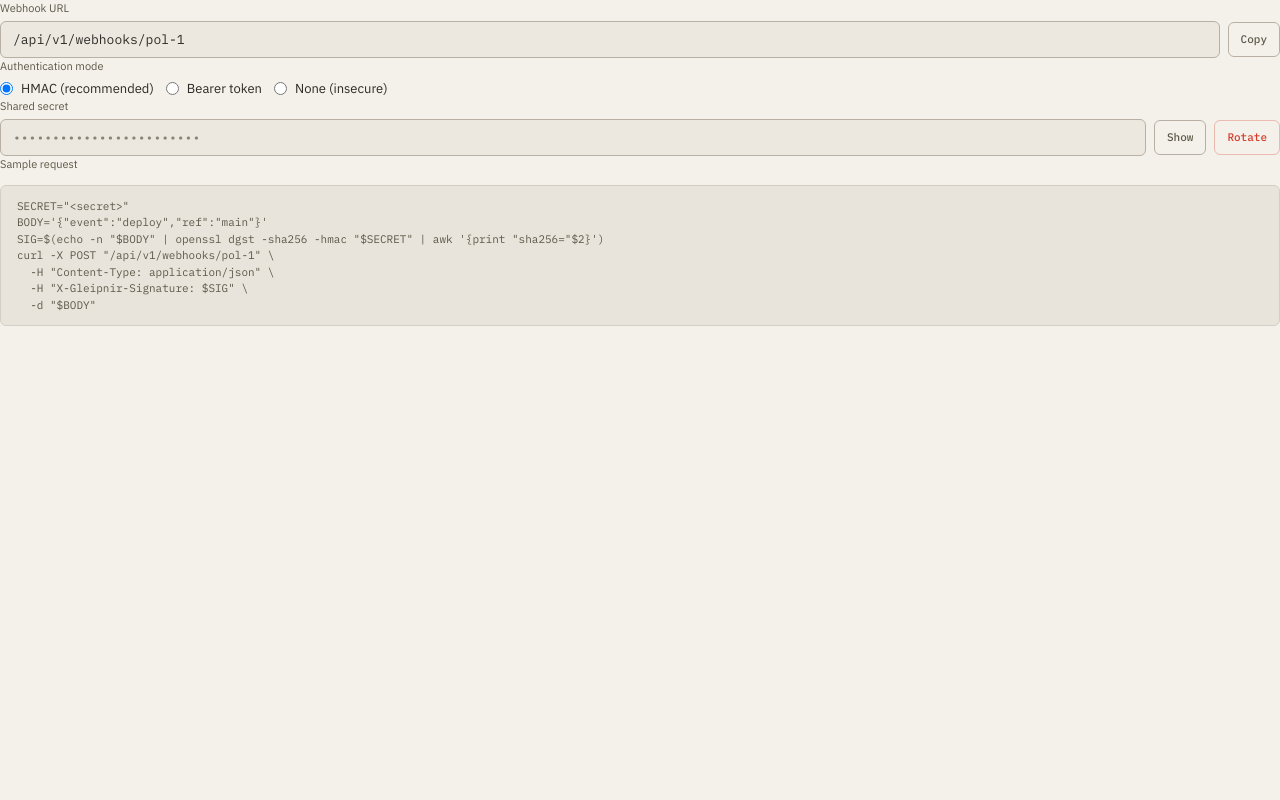
Scenario: WebhookConfig — Rotate modal › opens and closes the Rotate confirmation modal
The image size is (1280, 800).
Step 1. Click the button "Rotate" → (1247, 137), box top-left (1214, 120), bottom-right (1279, 154)
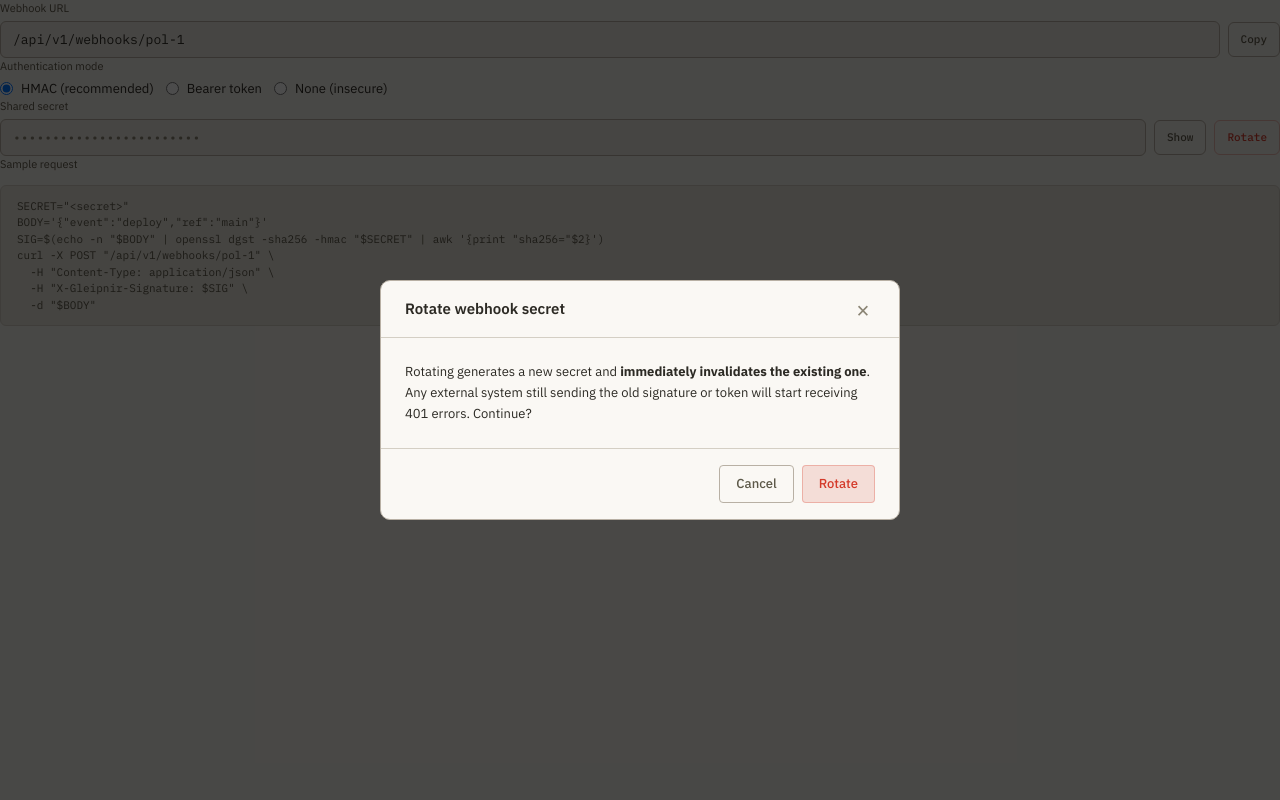
Expected: the dialog "Rotate webhook secret" is shown, top-left (380, 280), bottom-right (900, 520)
Step 2. Click the button "Cancel" → (756, 484), box top-left (719, 465), bottom-right (794, 503)
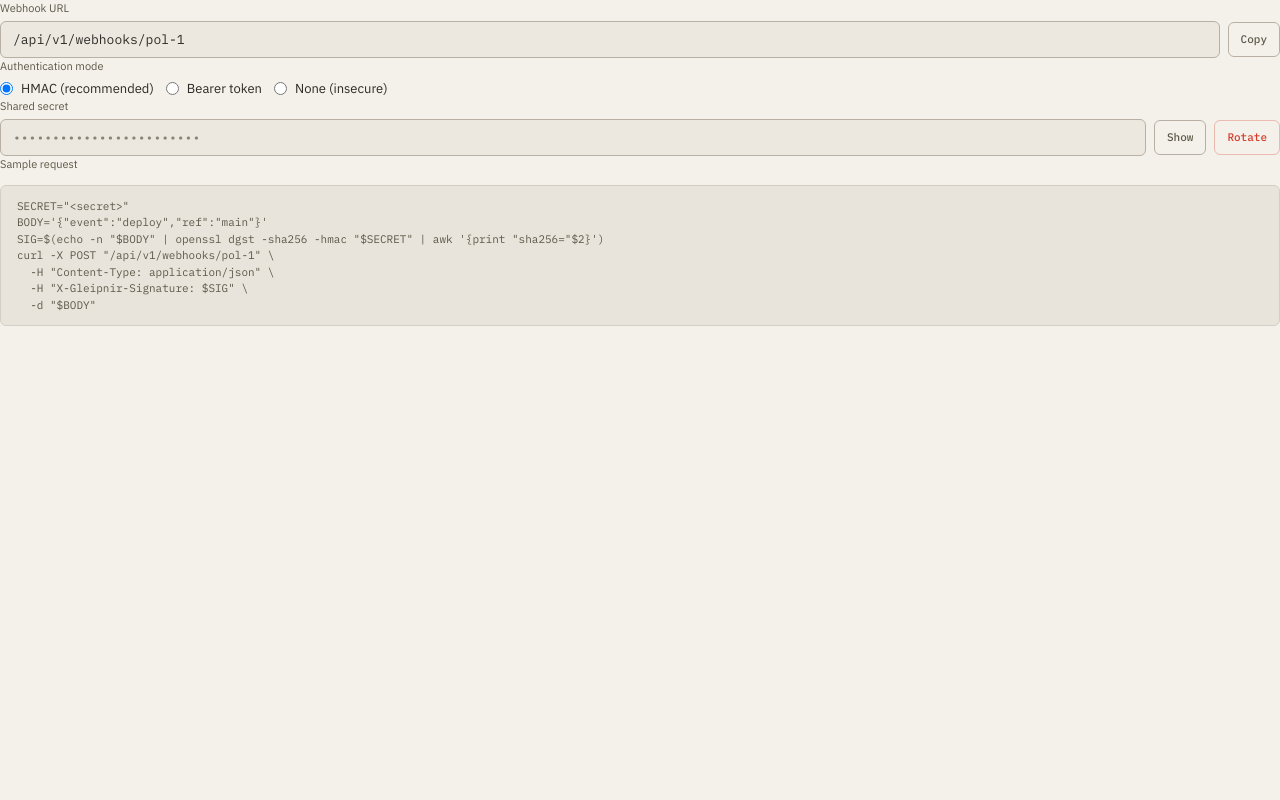
Expected: the dialog is gone
